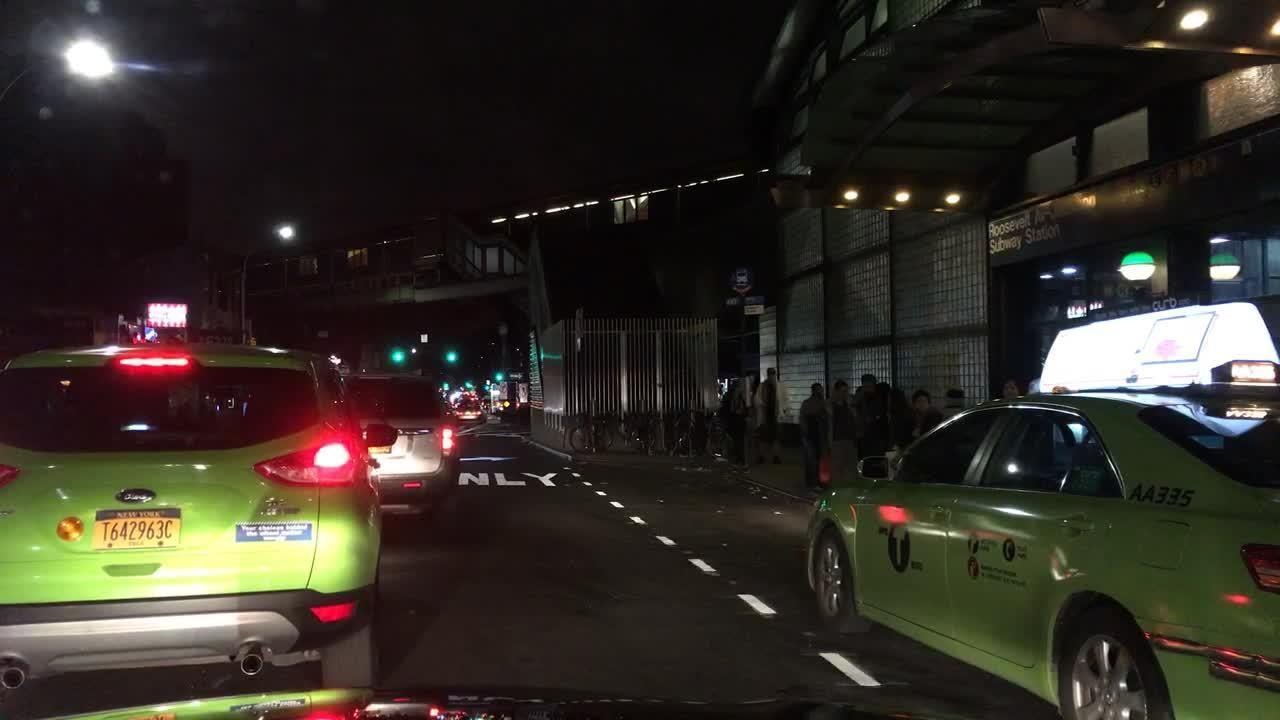ford: (108, 482, 163, 508)
